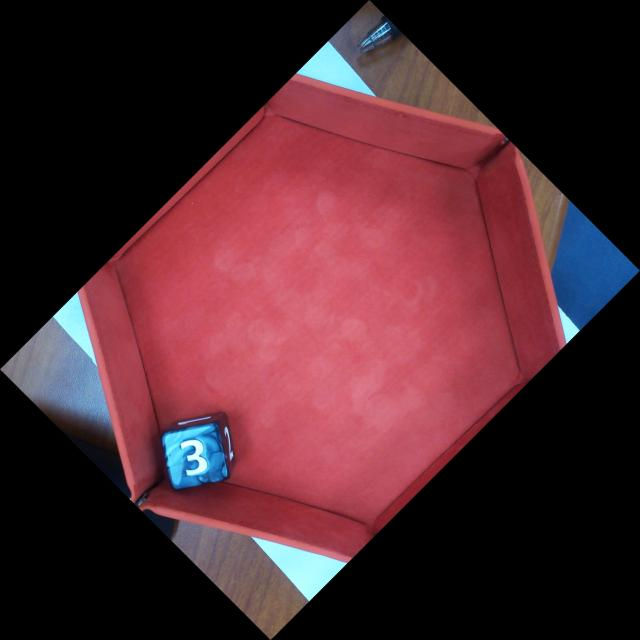dice: (158, 421, 230, 494)
